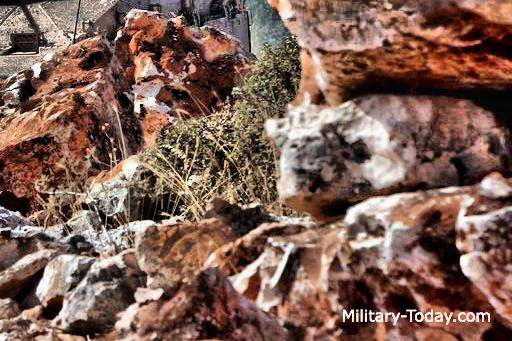tanks: (1, 1, 249, 78)
